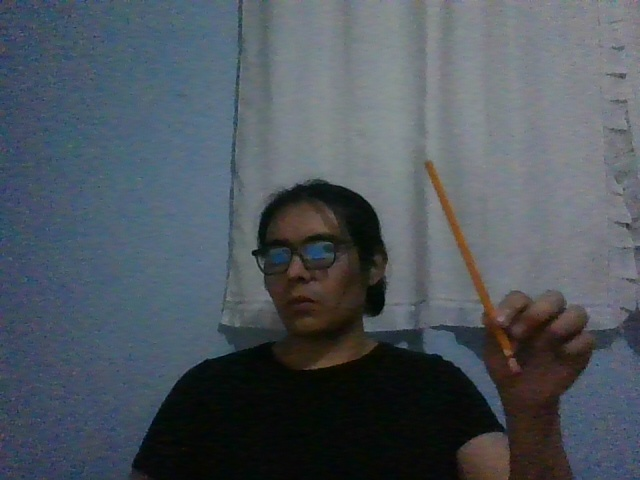lapiz: (424, 159, 522, 375)
